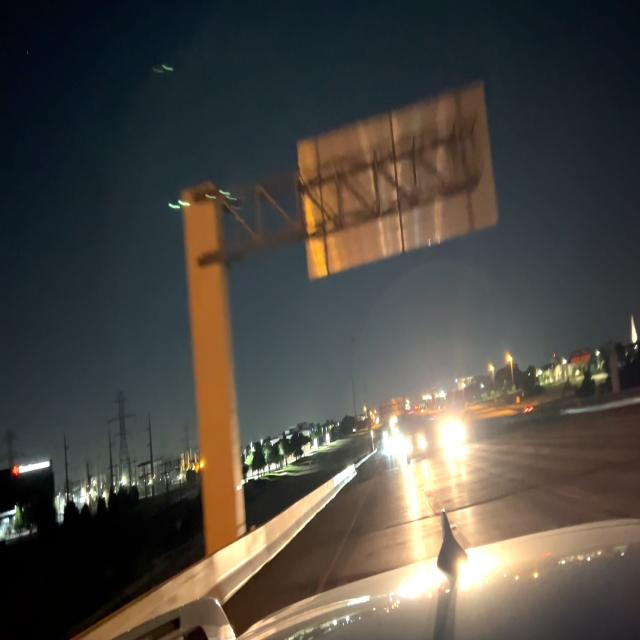back-of-sign: (298, 80, 499, 277)
